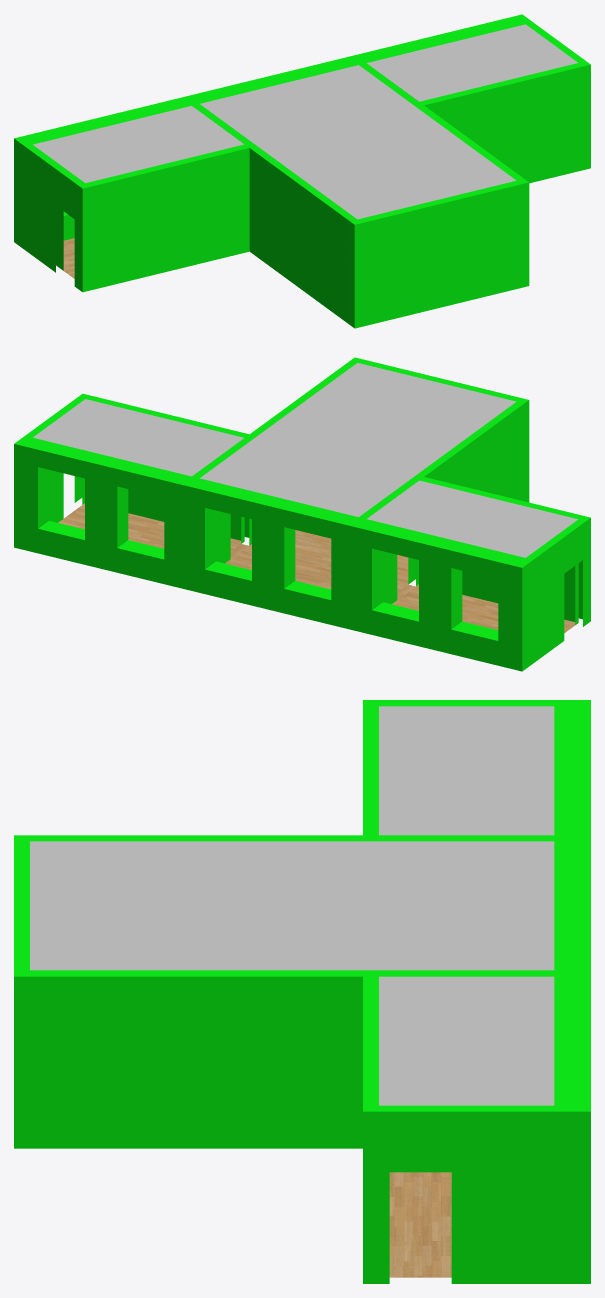
File: Room.FBX
3 renders of one model, top to bottom at view 1: azimuth 30°, elevation 25°; view 2: azimuth 150°, elevation 25°; view 3: azimuth 270°, elevation 25°, orthographic. The views are drawn at different scales.
Parts seen in each view (by area): view 1: Box006, Ceiling001, Rectangle011, Object015; view 2: Box006, Ceiling001, Rectangle011, Box001, Object013, Object015; view 3: Box006, Ceiling001, Rectangle011, Object013.
Boxes of the visible parts, box(x1,y1,x2,y2) form: Box006: box(14, 14, 590, 328); Ceiling001: box(200, 65, 516, 219); Rectangle011: box(33, 24, 577, 183); Object015: box(63, 238, 74, 278); Box006: box(14, 357, 590, 671); Ceiling001: box(200, 363, 516, 517); Rectangle011: box(33, 399, 577, 557); Box001: box(225, 530, 408, 592); Object013: box(58, 503, 241, 551); Object015: box(392, 584, 575, 632); Box006: box(14, 700, 590, 1283); Ceiling001: box(30, 841, 554, 970); Rectangle011: box(379, 706, 554, 1105); Object013: box(389, 1172, 451, 1277).
Size of the model in its own units: 1735 by 338 by 1028.
